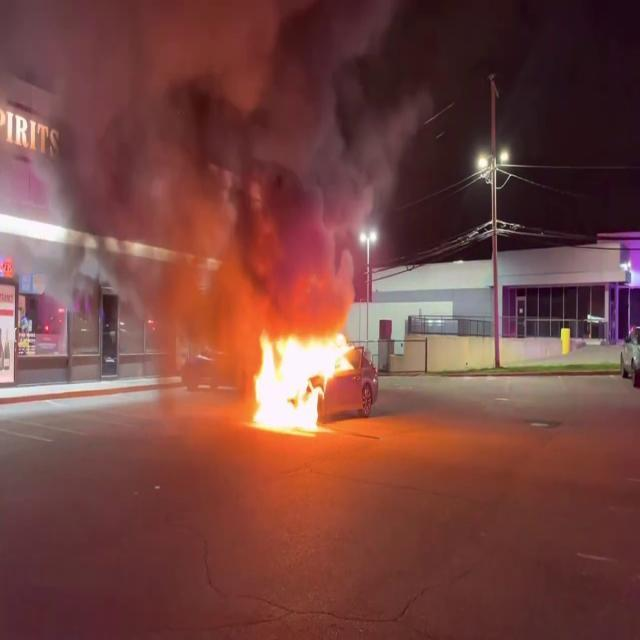Fire: (238, 320, 356, 436)
Smoke: (25, 0, 449, 298)
